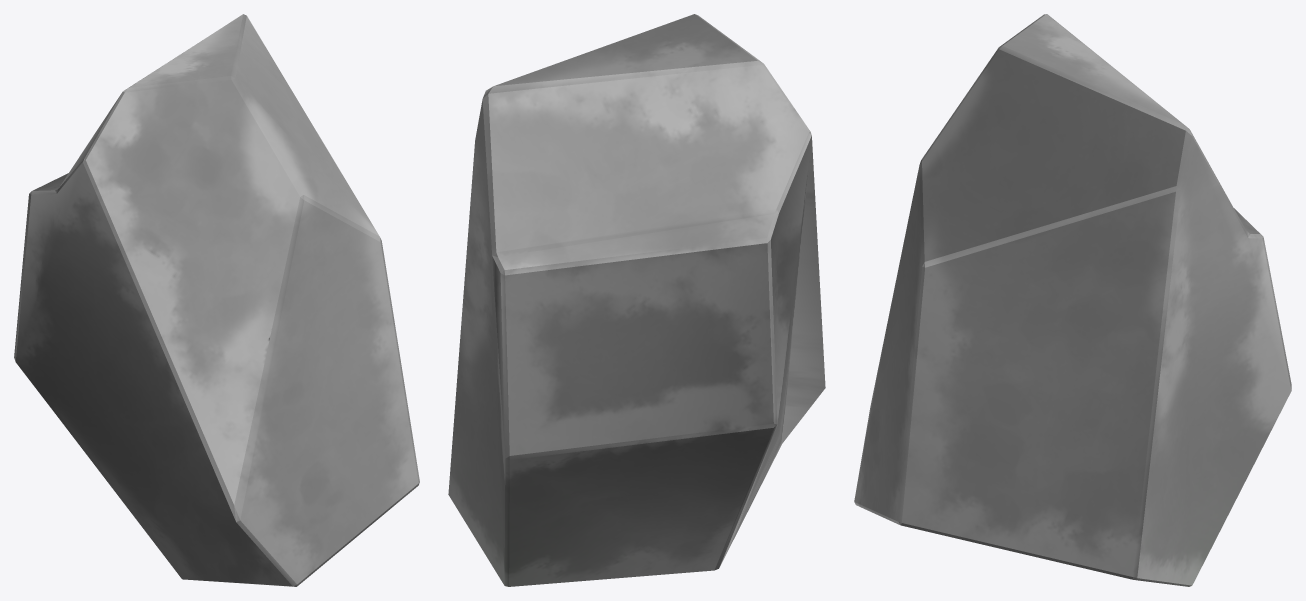
File: Stone_4_LowPoly.FBX
3 views of the same model, side by side, from view 1: azimuth 30°, elevation 25°; view 2: azimuth 150°, elevation 25°; view 3: azimuth 270°, elevation 25° (orthographic). The views are drawn at different scales.
Parts seen in each view (by area): view 1: Box002; view 2: Box002; view 3: Box002.
Part boxes in pixels (x1=…): Box002: x1=14, y1=14, x2=419, y2=586; Box002: x1=448, y1=14, x2=825, y2=586; Box002: x1=854, y1=14, x2=1291, y2=586.
Bounding box in the file's own units: 102 × 121 × 157.
Materials: 1 (1 with a texture image).
